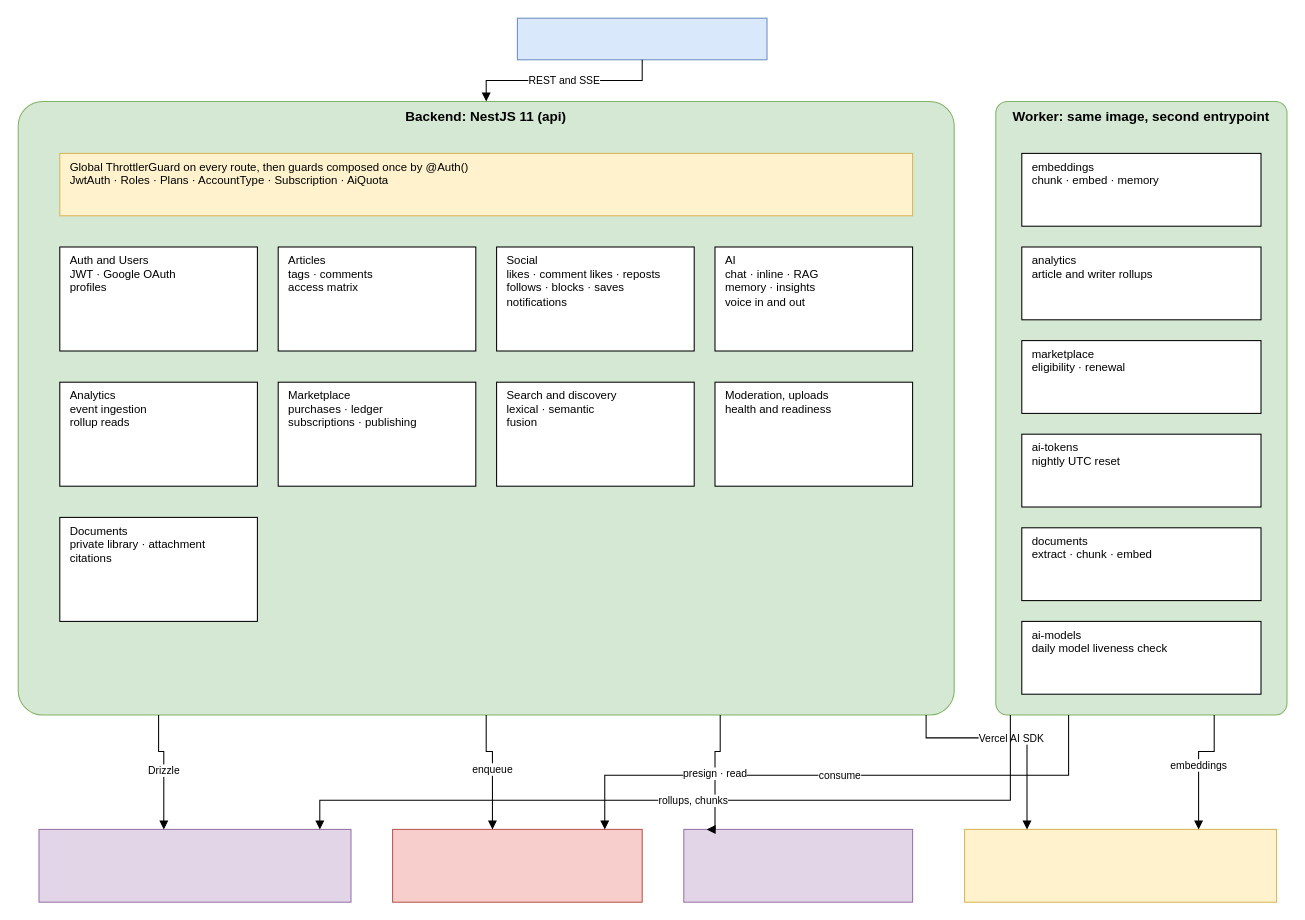
Some shapes in this 1305 by 920 pixel diagram are drawn without their labels. The shapes that lost their labels are listed below. From the top down, each one's centre as x and y in pixels, then its label:
At [641,38]: "Frontend: Next.js".
At [194,865]: "PostgreSQL 16 + pgvector relational · tsvector · HNSW".
At [517,865]: "Redis BullMQ broker only".
At [798,865]: "MinIO images · private documents".
At [1120,865]: "Groq · Gemini LLM, embeddings, moderation, speech".
